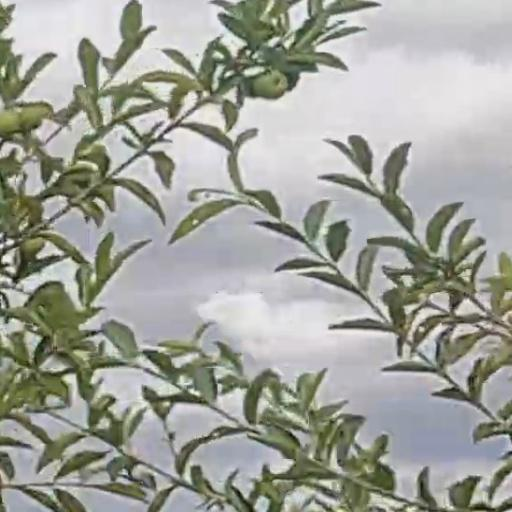acerola: (3, 108, 42, 132), (256, 72, 288, 97)
